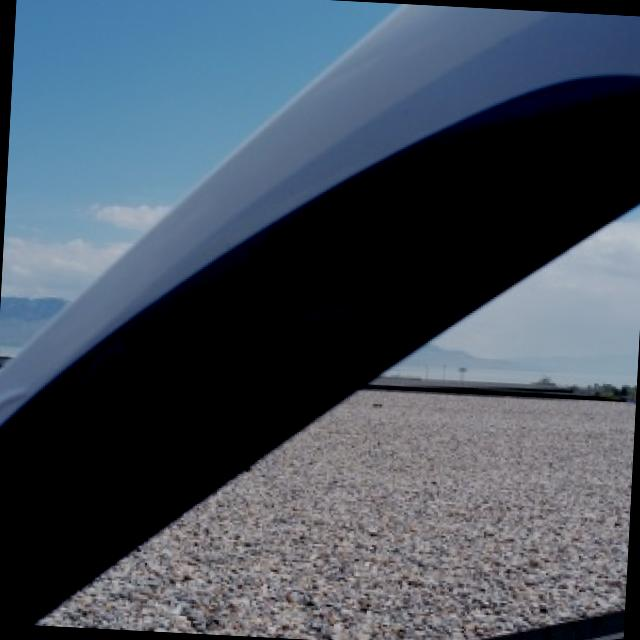healthy: (0, 4, 640, 623)
